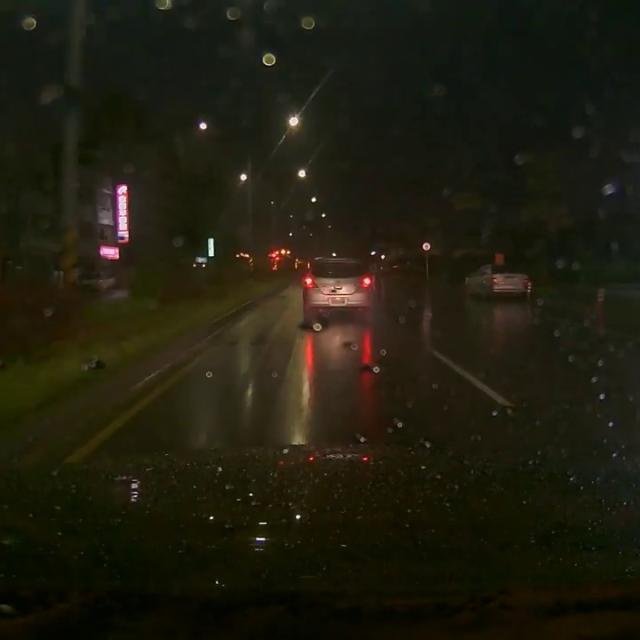Car: (298, 255, 378, 326), (456, 260, 530, 306)
